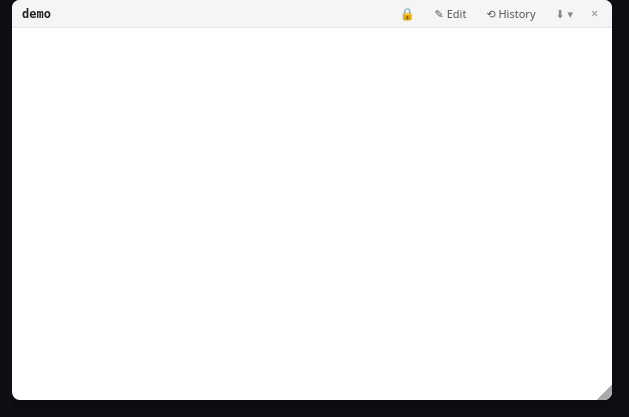
Test: Tile inline editor (Issue #6) › render-failure preserves the user's text and shows the error inline
Click the button with test id "tile-edit-toggle" at (450, 14), box x1=429 y1=4 x2=472 y2=23
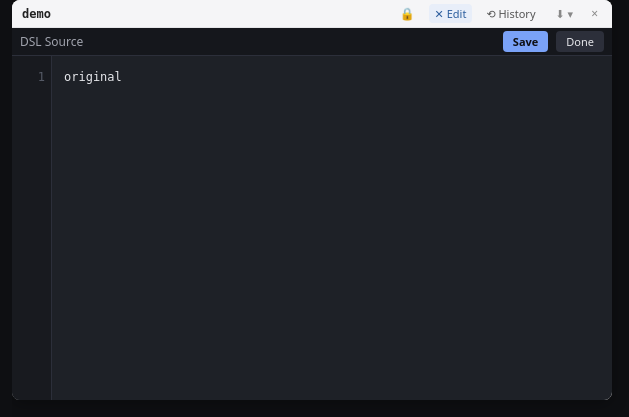
Expected: the text box holds "original"
# Type something that will "fail"
Replace the text in the text box with "garbage that won't parse" at (332, 228), box x1=52 y1=56 x2=612 y2=400
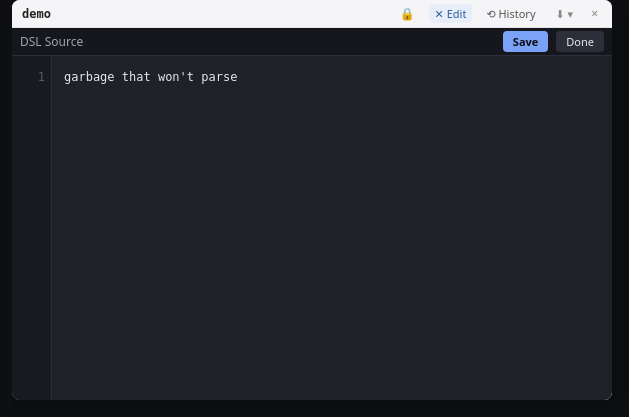
# Trigger save via Cmd+Enter
Press Enter in the text box
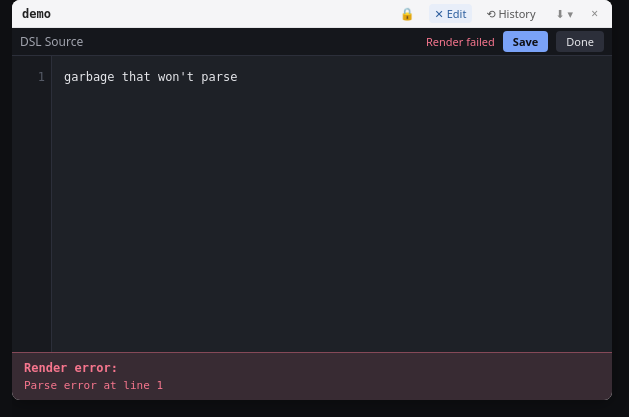
Expected: the message shows "Parse error", x1=24 y1=379 x2=163 y2=392
